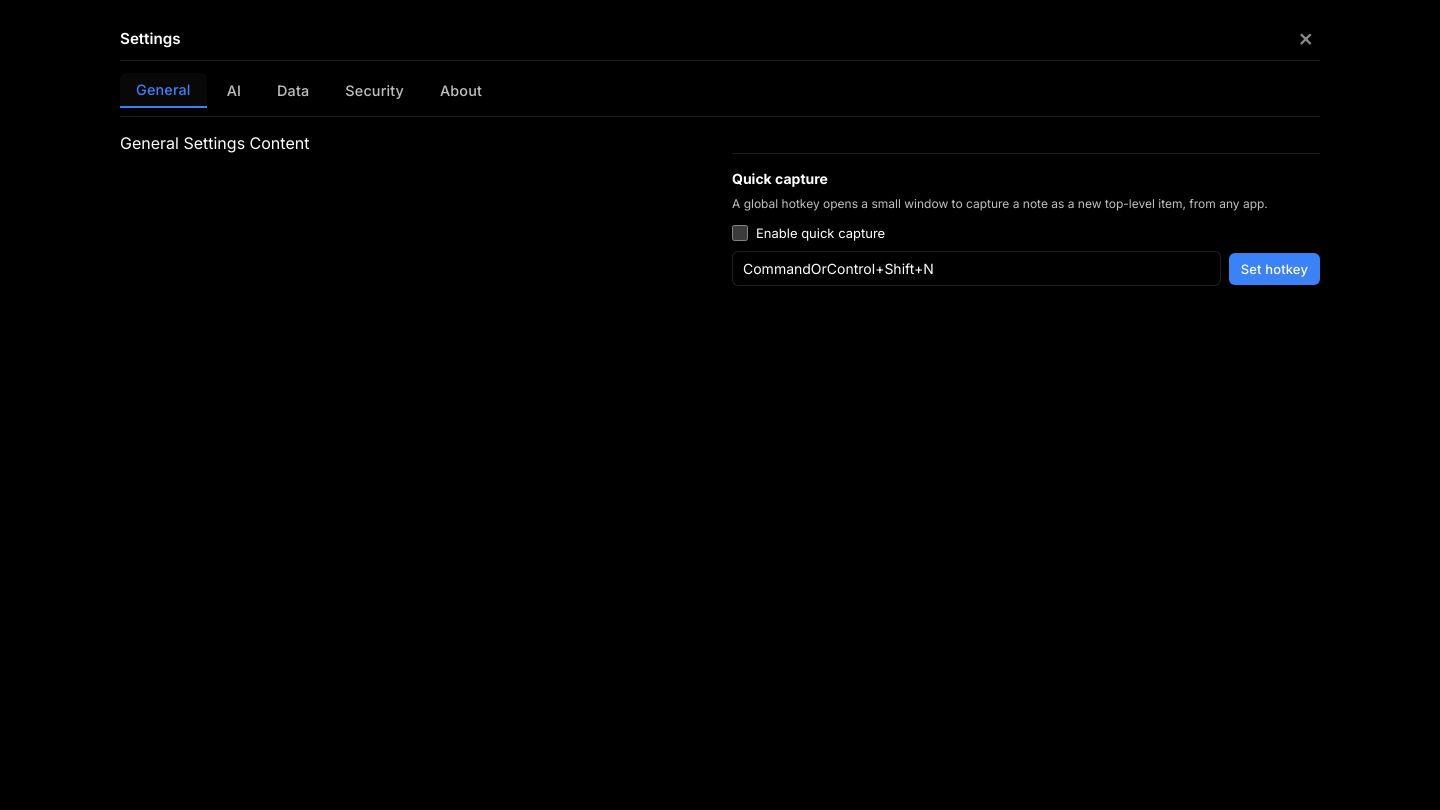
Test: SettingsPanel › tab navigation › should show correct content for each tab
Expected: the text "General Settings Content" is shown, x1=120 y1=133 x2=309 y2=153
# Switch to AI tab
Click the button with class "settings-tab" showing "AI". click: point(234, 90)
box: x1=211 y1=73 x2=257 y2=108
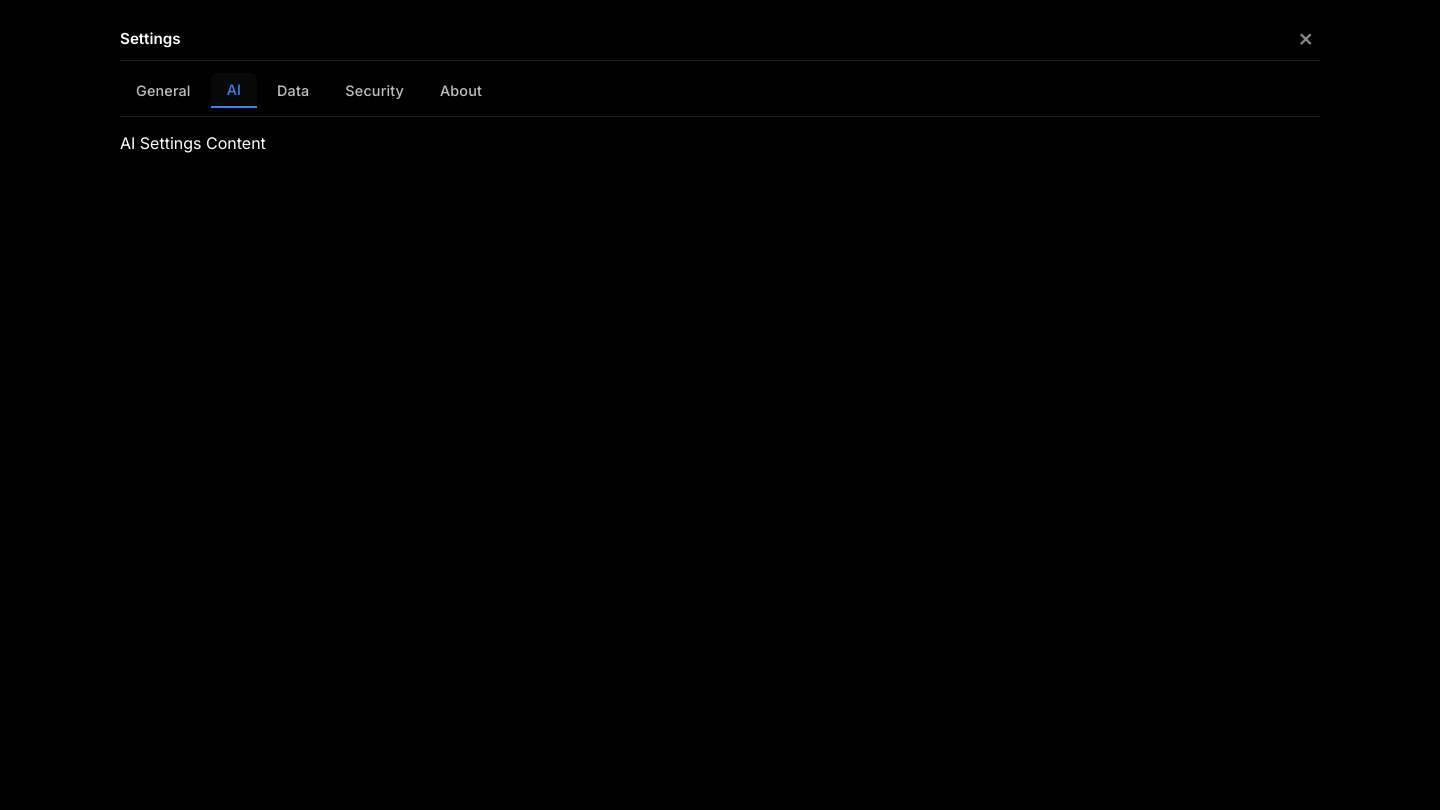
Expected: the text "AI Settings Content" is shown, x1=120 y1=133 x2=266 y2=153
